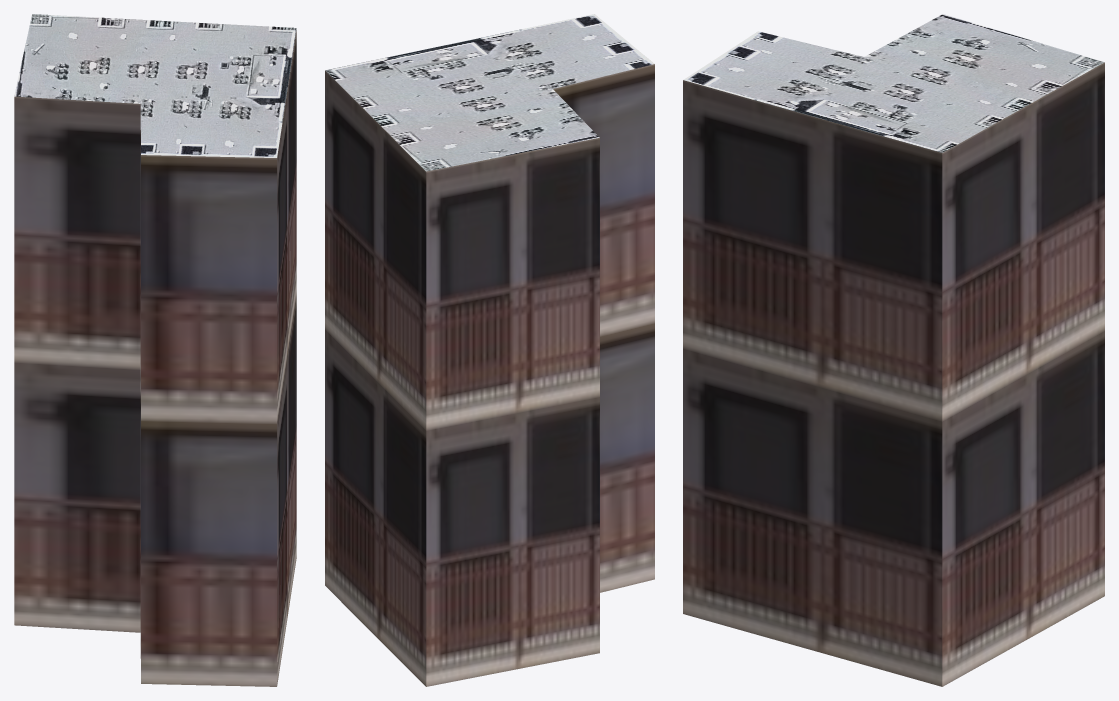
File: ResTex__2433.fbx
3 views of the same model, side by side, from view 1: azimuth 30°, elevation 25°; view 2: azimuth 150°, elevation 25°; view 3: azimuth 270°, elevation 25° (orthographic). The views are drawn at different scales.
Visible parts, largest first — view 1: CityEngineMaterial_6_m, CityEngineMaterial_4_m; view 2: CityEngineMaterial_6_m, CityEngineMaterial_4_m; view 3: CityEngineMaterial_6_m, CityEngineMaterial_4_m.
Boxes of the visible parts, x1=… form: CityEngineMaterial_6_m: x1=14, y1=30, x2=296, y2=686; CityEngineMaterial_4_m: x1=14, y1=14, x2=296, y2=157; CityEngineMaterial_6_m: x1=325, y1=64, x2=654, y2=686; CityEngineMaterial_4_m: x1=325, y1=14, x2=654, y2=171; CityEngineMaterial_6_m: x1=683, y1=62, x2=1104, y2=686; CityEngineMaterial_4_m: x1=683, y1=14, x2=1104, y2=152.
Bounding box in the file's own units: 3.35 × 6 × 4.3.
2 materials, 2 textured.
